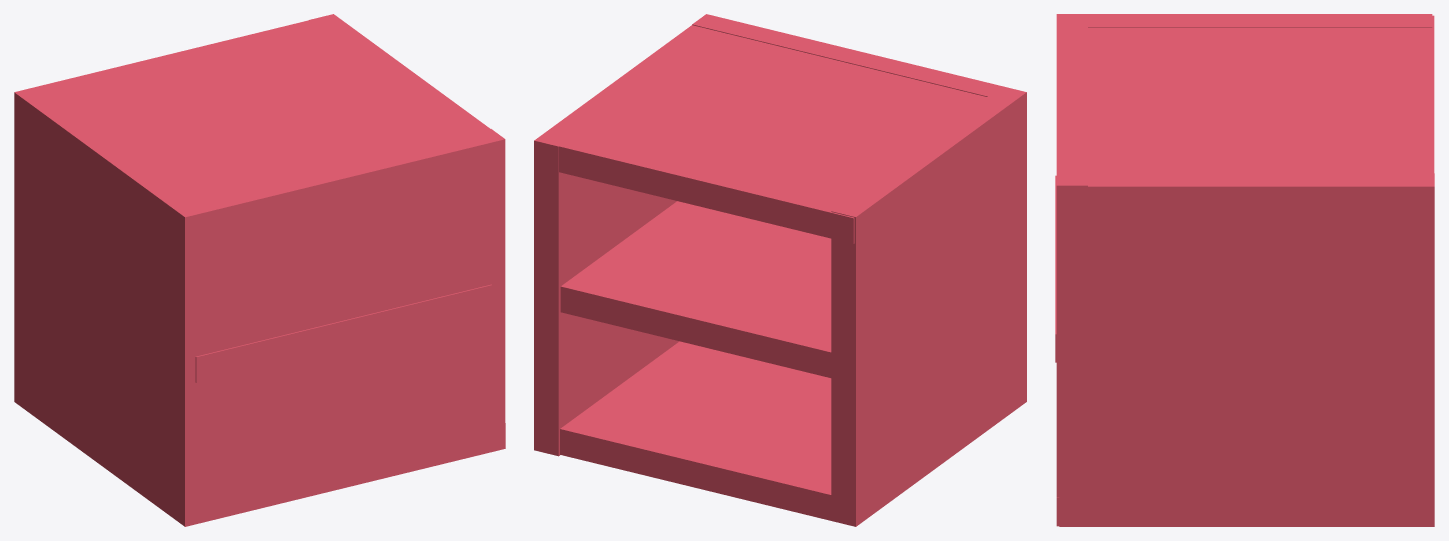
File: Hastings House.glb
The picture shows the model from 3 angles, left to right: view 1: azimuth 30°, elevation 25°; view 2: azimuth 150°, elevation 25°; view 3: azimuth 270°, elevation 25°; orthographic projection. The views are drawn at different scales.
Visible parts, largest first — view 1: Back, Wall 2, Top, Shelf, Bottom, Wall 1; view 2: Wall 2, Top, Bottom, Shelf, Wall 1, Back; view 3: Wall 1, Top, Bottom, Back, Wall 2.
Boxes of the visible parts, x1=… form: Back: x1=196, y1=129, x2=505, y2=519; Wall 2: x1=14, y1=86, x2=209, y2=526; Top: x1=17, y1=20, x2=465, y2=200; Shelf: x1=195, y1=284, x2=492, y2=382; Bottom: x1=209, y1=423, x2=505, y2=520; Wall 1: x1=309, y1=14, x2=490, y2=134; Wall 2: x1=831, y1=86, x2=1026, y2=526; Top: x1=558, y1=31, x2=986, y2=243; Bottom: x1=560, y1=341, x2=831, y2=520; Shelf: x1=560, y1=201, x2=831, y2=377; Wall 1: x1=534, y1=25, x2=714, y2=456; Back: x1=692, y1=14, x2=1001, y2=96; Wall 1: x1=1059, y1=173, x2=1434, y2=526; Top: x1=1088, y1=15, x2=1434, y2=174; Bottom: x1=1056, y1=497, x2=1432, y2=526; Back: x1=1056, y1=27, x2=1087, y2=497; Wall 2: x1=1056, y1=14, x2=1432, y2=27.
Size of the model in its own units: 82.55 by 76.38 by 77.04.
